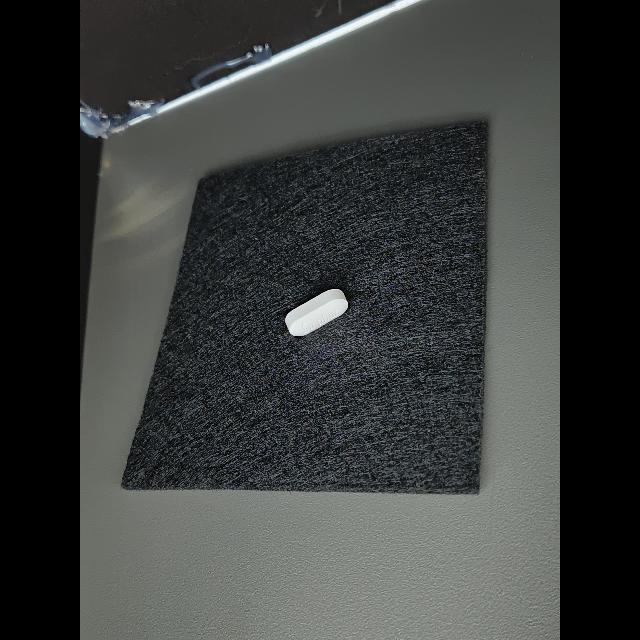Intact Pill: (285, 289, 348, 336)
